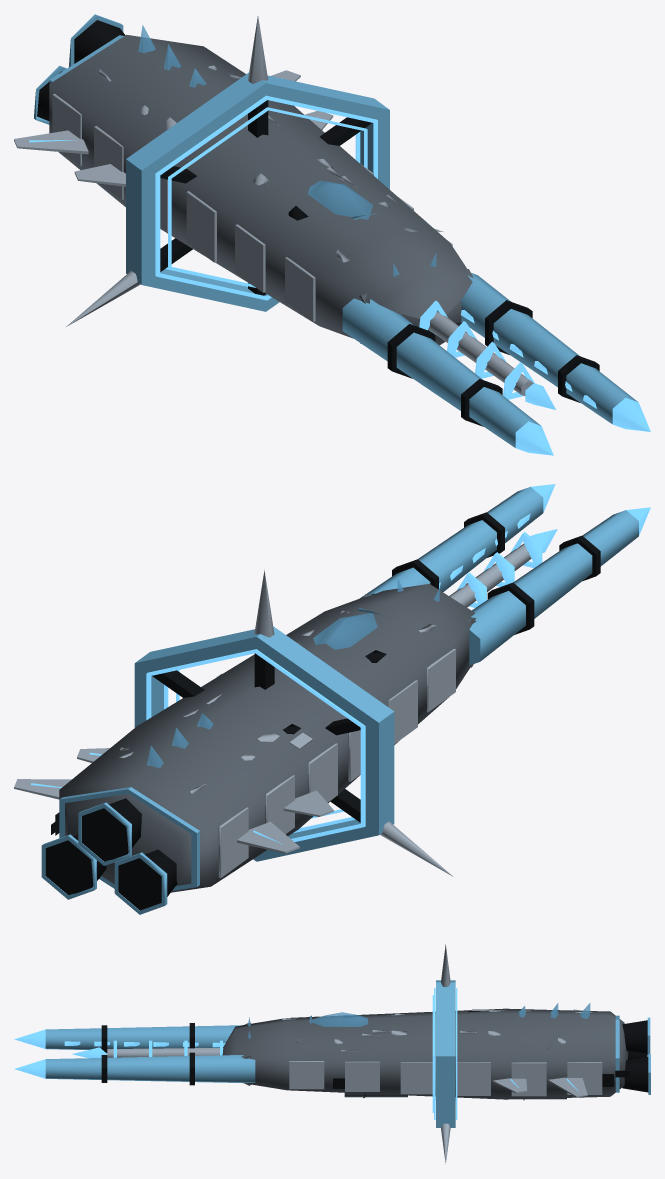
Rendered from kamerton-rezonanci-trade-12-lod1.glb.
3 renders of one model, top to bottom at view 1: azimuth 30°, elevation 25°; view 2: azimuth 150°, elevation 25°; view 3: azimuth 270°, elevation 25°, orthographic. The views are drawn at different scales.
Bounding box in the file's own units: 12.9 × 9.47 × 29.95.
